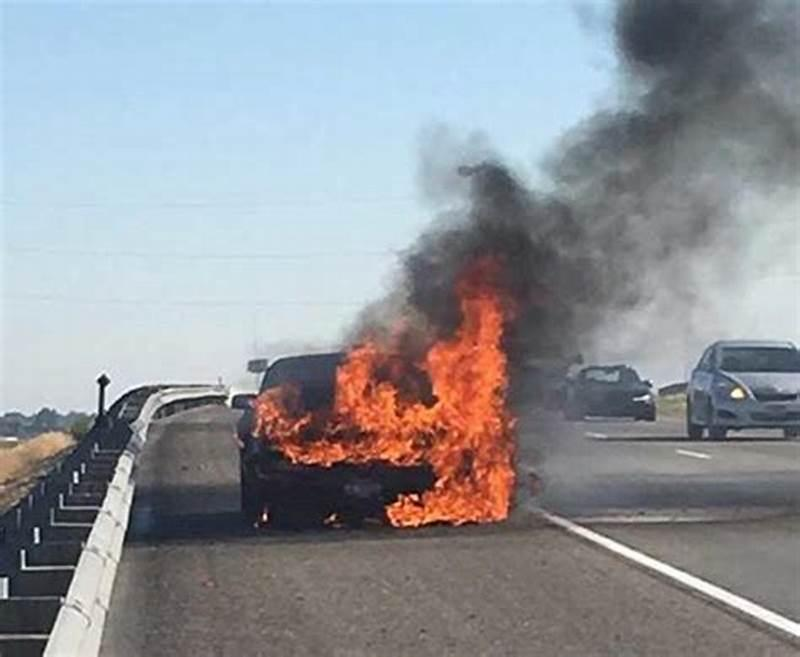fire: (337, 340, 514, 527), (251, 386, 335, 472), (455, 263, 510, 340)
smoke: (512, 114, 800, 360), (609, 0, 800, 114), (409, 121, 511, 261), (353, 262, 456, 339)
